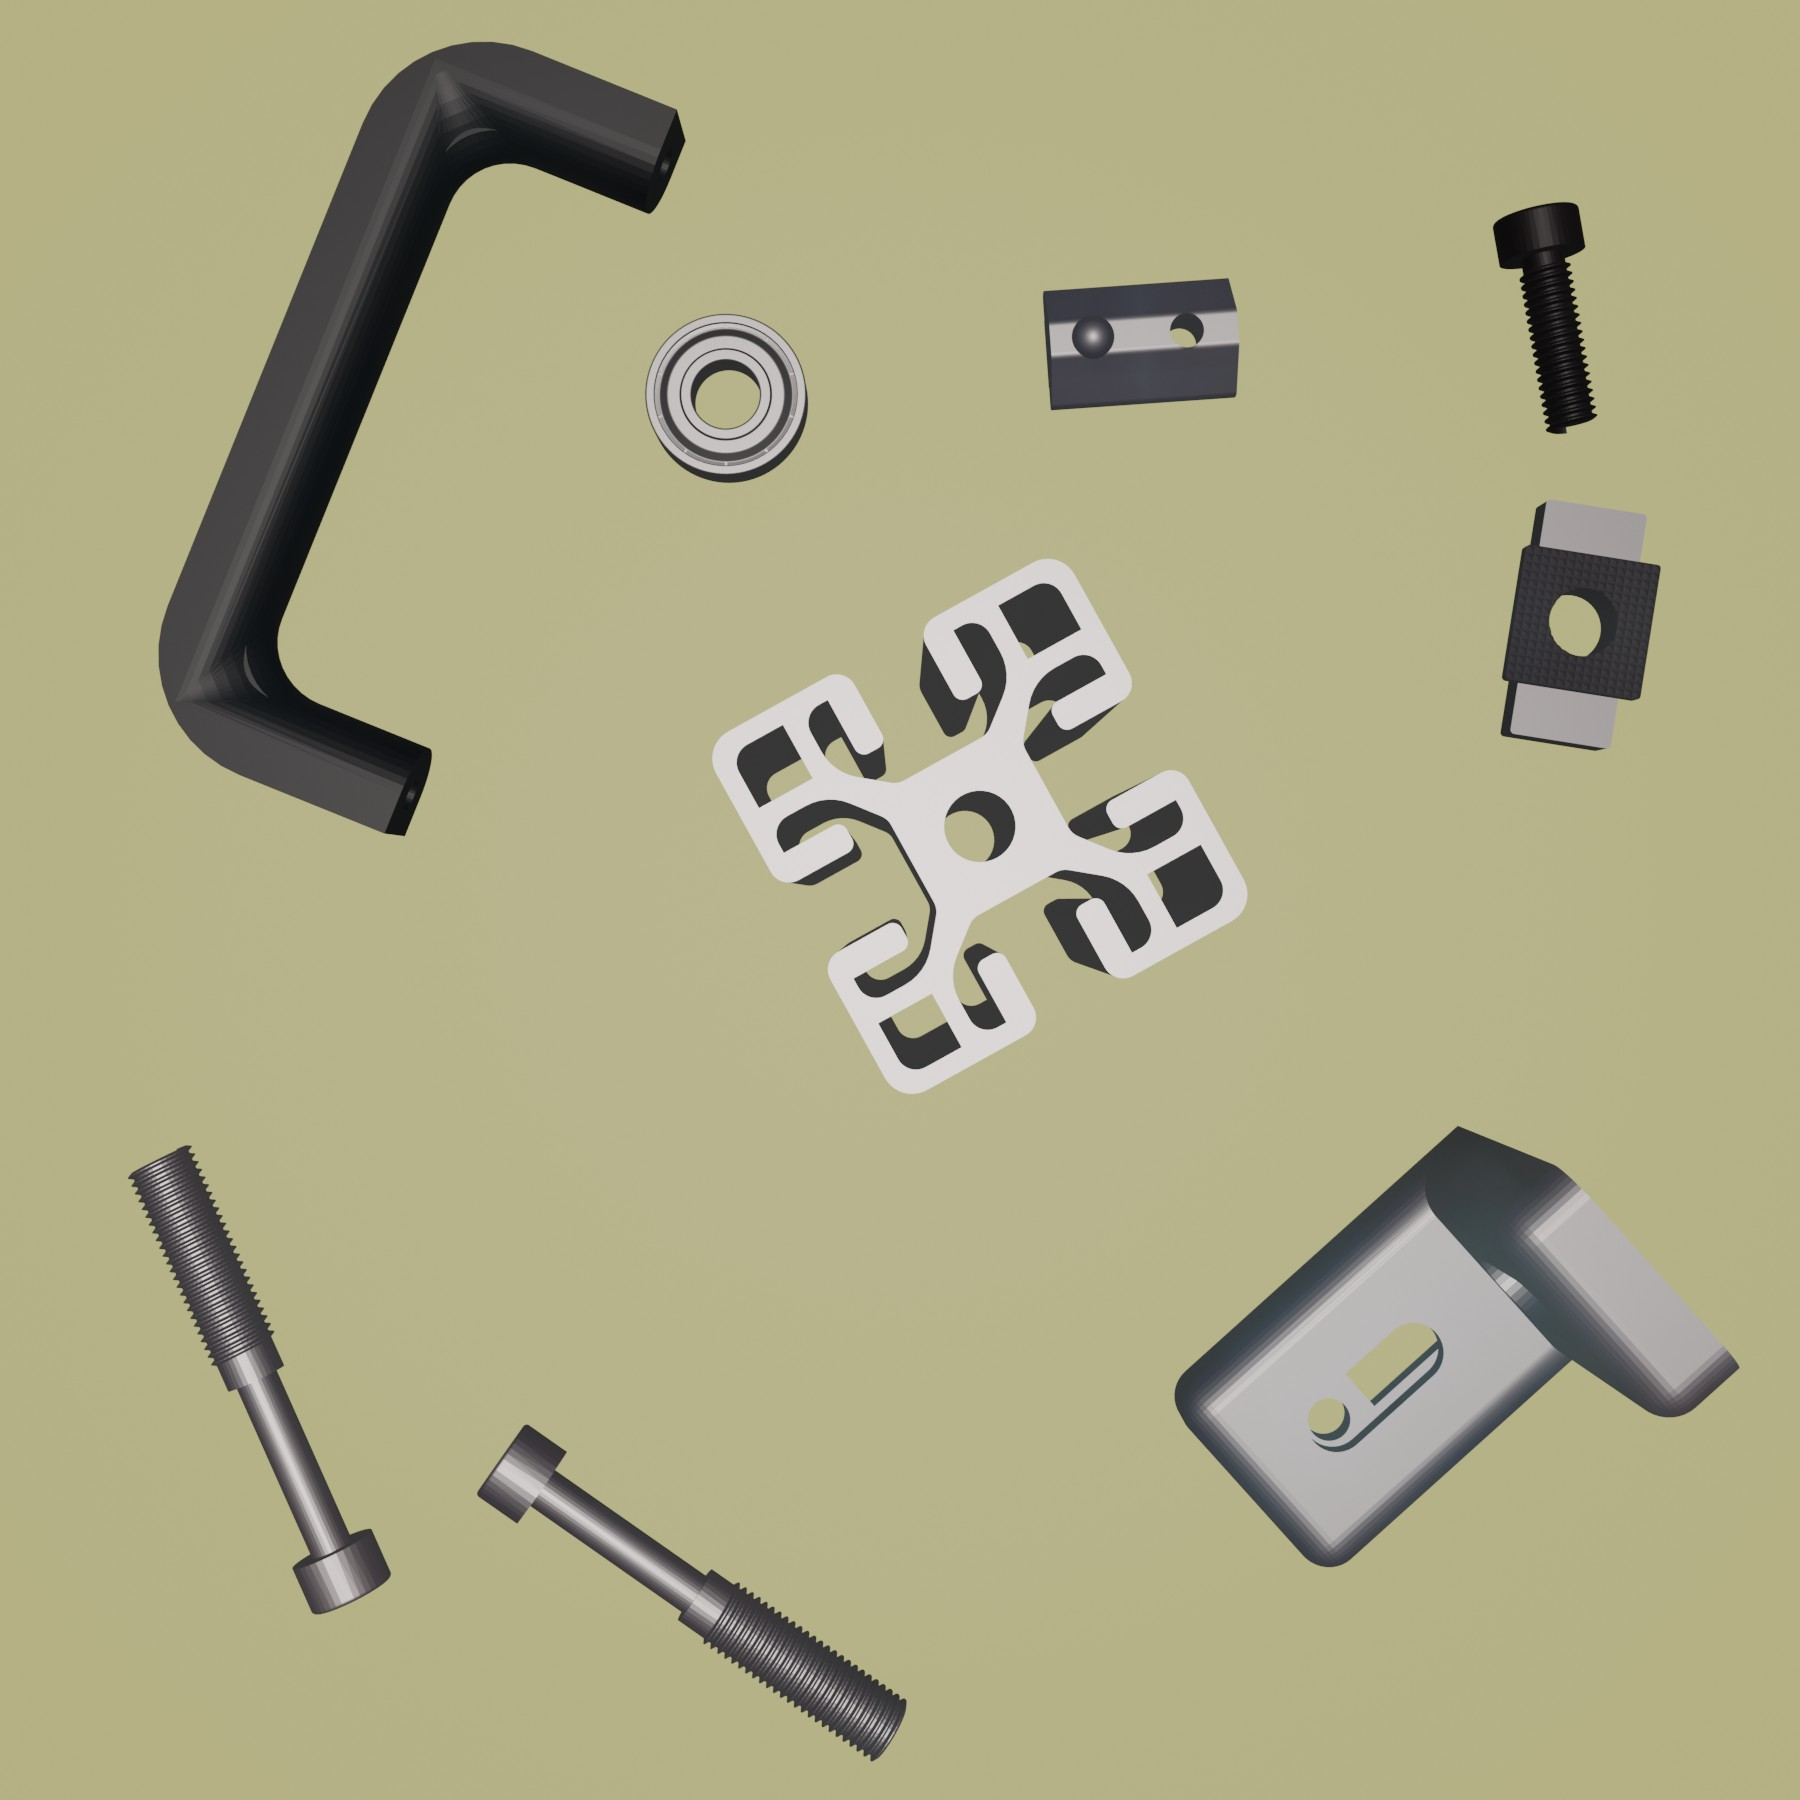Aluminium Extension: (712, 554, 1254, 1099)
Ball Bearing: (645, 312, 813, 485)
Multiwinkel: (1175, 1119, 1744, 1569)
Pull Handle: (157, 38, 687, 839)
Shoulder Socket Head Cap Screw: (476, 1419, 908, 1762), (127, 1141, 392, 1615)
Socket Head Cap Screw: (1488, 199, 1601, 438)
T Nut Square: (1493, 498, 1663, 755)
T Spring Nut: (1038, 275, 1241, 415)
